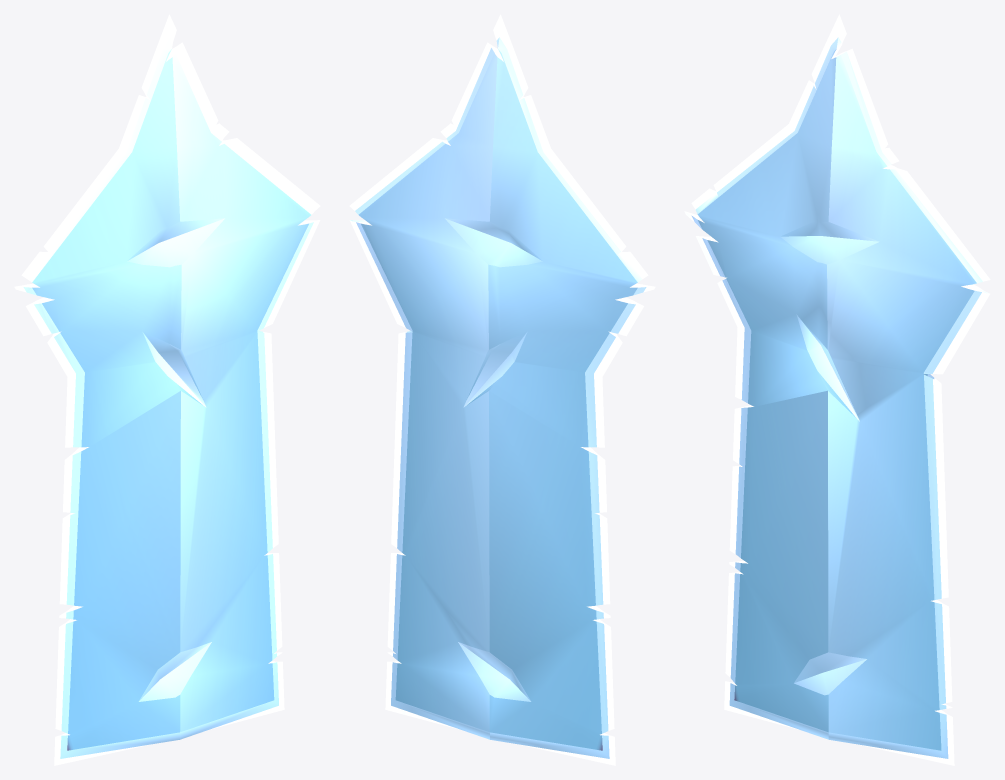
The model's file is steel_blade_scratched_047.glb.
3 renders of one model, left to right at view 1: azimuth 30°, elevation 25°; view 2: azimuth 150°, elevation 25°; view 3: azimuth 330°, elevation 25°, orthographic.
Visible parts, largest first — view 1: steel_blade_scratched.047; view 2: steel_blade_scratched.047; view 3: steel_blade_scratched.047.
Boxes of the visible parts, x1,y1,x2,y2 form: steel_blade_scratched.047: [14, 14, 320, 765]; steel_blade_scratched.047: [349, 14, 655, 765]; steel_blade_scratched.047: [684, 14, 990, 765].
Bounding box in the file's own units: 5.19 × 11.76 × 0.723.
Materials: 1 (1 with a texture image).
